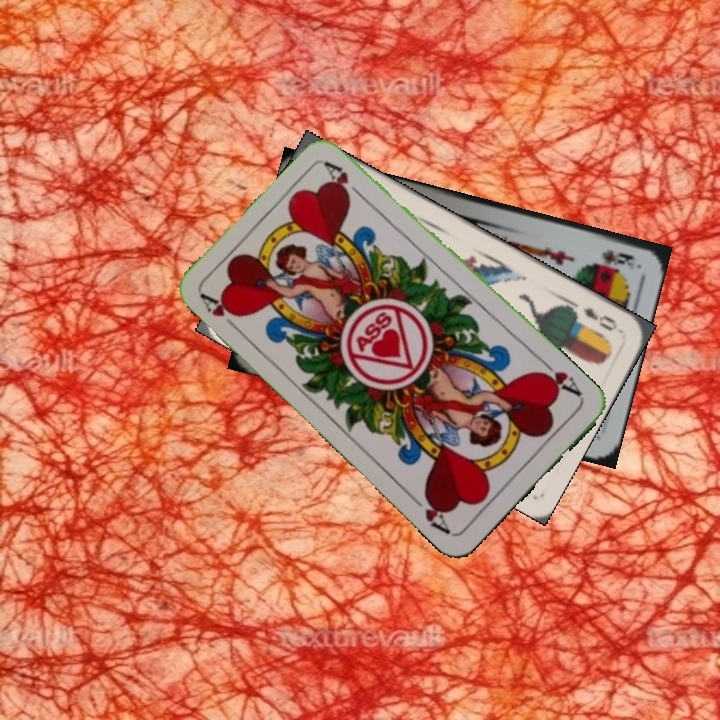EO: (579, 303, 620, 334)
HA: (532, 356, 585, 400), (196, 290, 245, 336)
SK: (597, 246, 638, 272)
